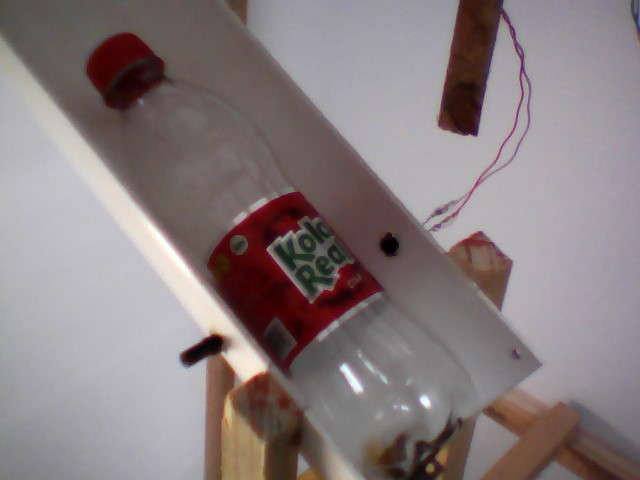plastico: (82, 29, 489, 480)
